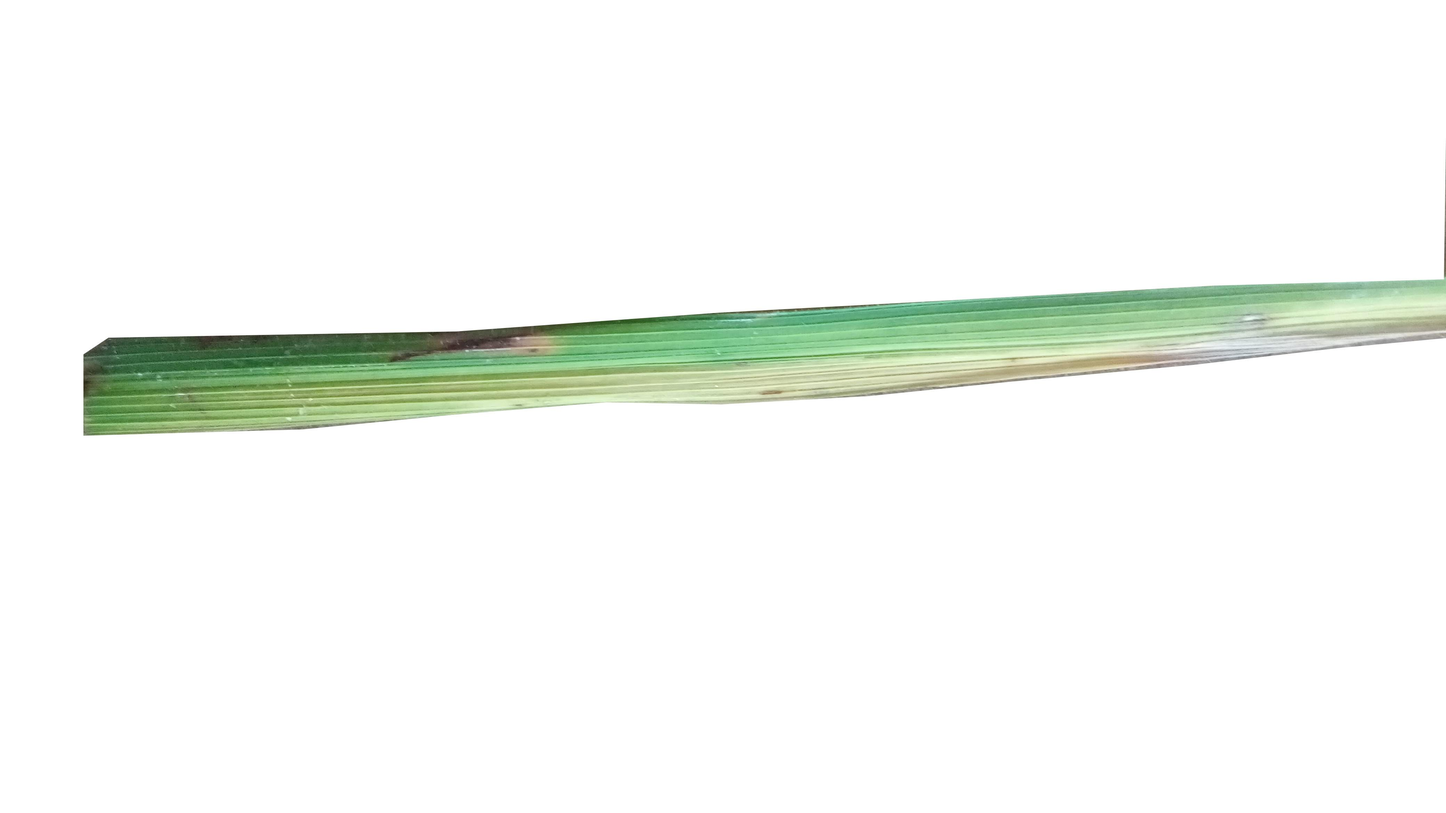Rice blast: (381, 325, 660, 377)
